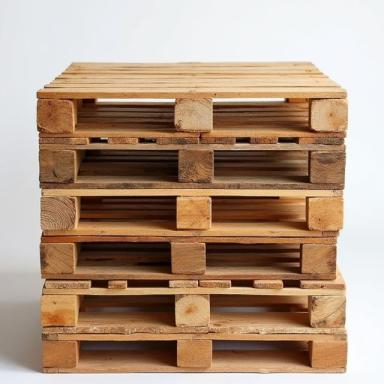pallet: (37, 62, 349, 138), (41, 262, 346, 334), (39, 137, 346, 190), (40, 189, 344, 237), (40, 237, 337, 281), (43, 333, 348, 373), (212, 340, 308, 366), (210, 196, 305, 222), (80, 196, 177, 220), (77, 245, 171, 266), (214, 151, 308, 170), (82, 150, 178, 162), (80, 340, 176, 350), (210, 305, 308, 312), (206, 261, 300, 267), (80, 306, 174, 312), (206, 249, 299, 253)
